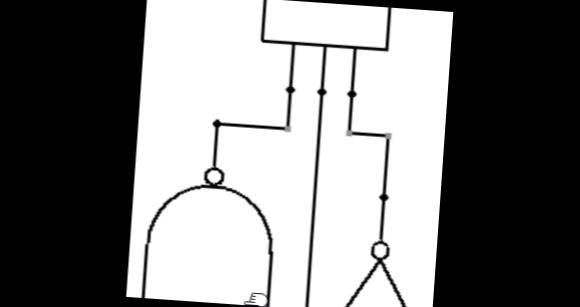and: (253, 0, 397, 56)
nand: (134, 153, 286, 306)
not: (323, 230, 433, 307)
